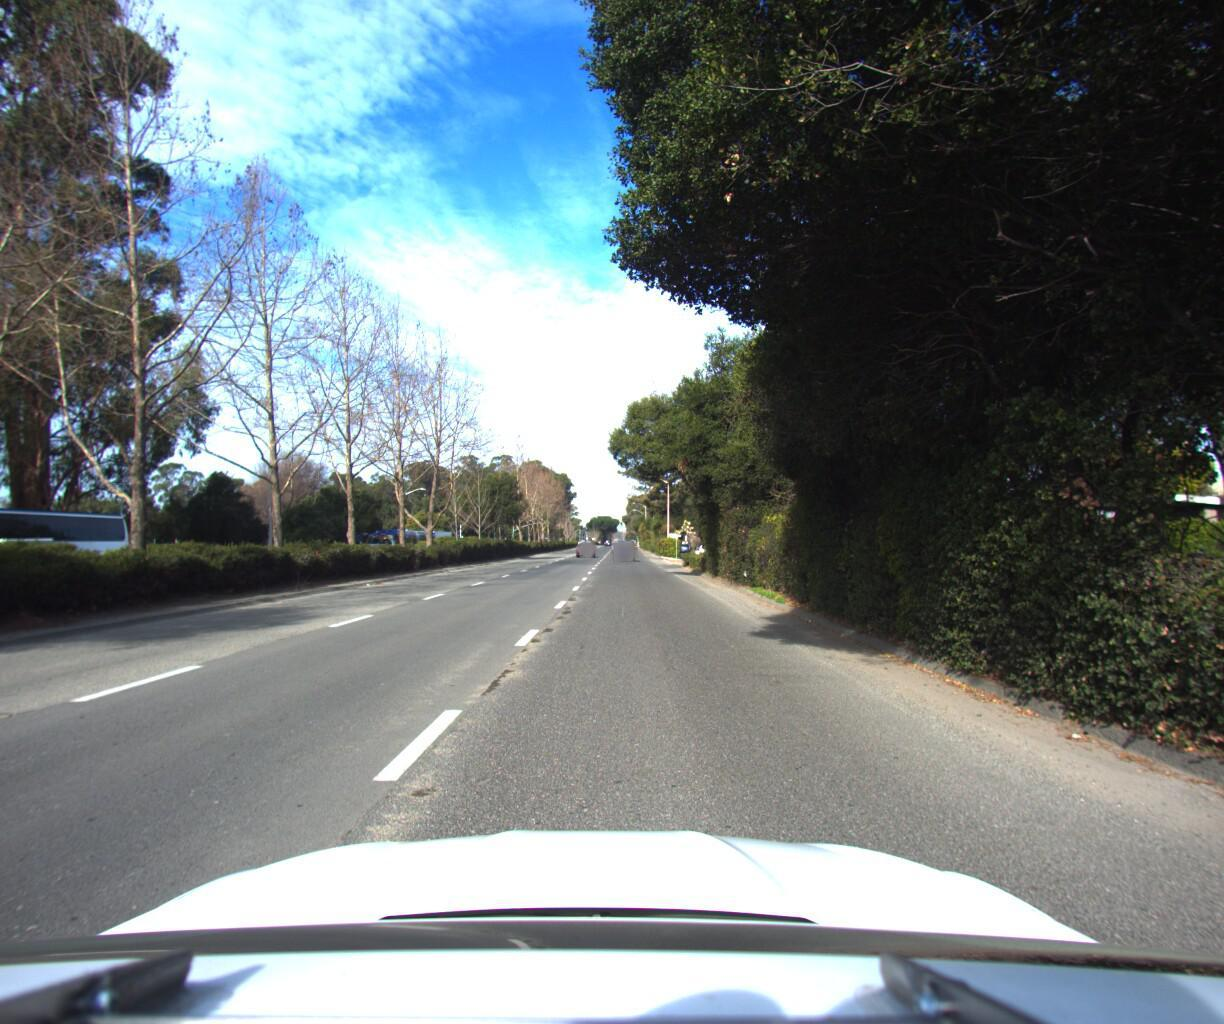bus: (0, 495, 137, 578), (366, 517, 437, 552)
car: (611, 533, 633, 552), (576, 534, 595, 550)
other_vehicle: (0, 527, 69, 584)
